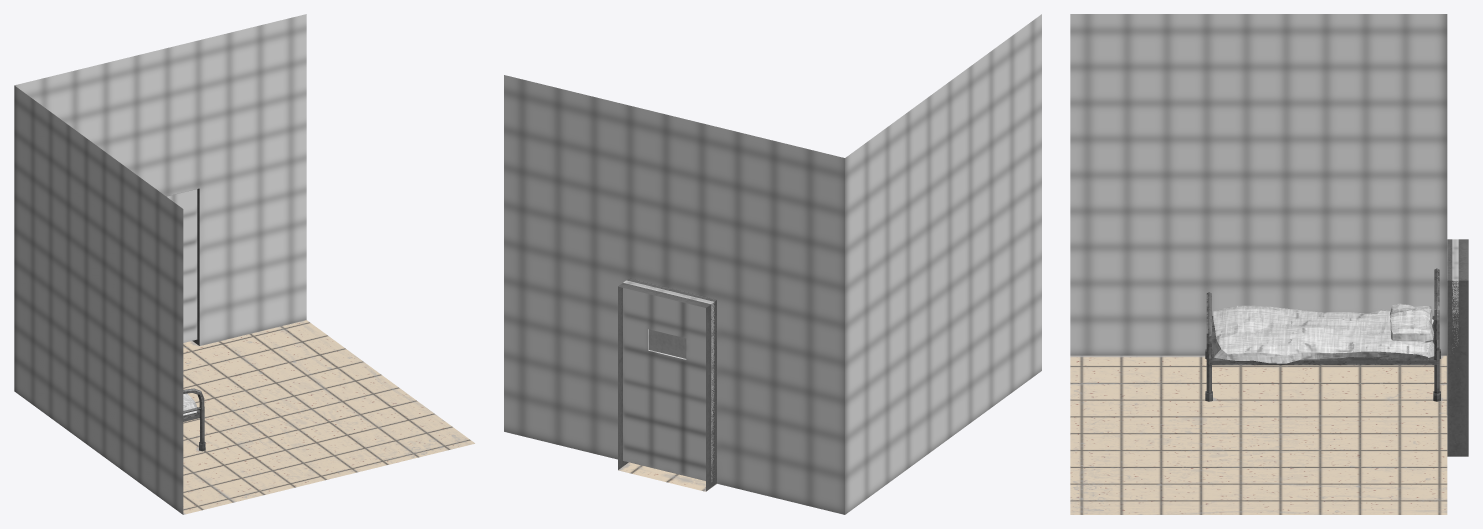
Rendered from Unityt.fbx.
The picture shows the model from 3 angles, left to right: view 1: azimuth 30°, elevation 25°; view 2: azimuth 150°, elevation 25°; view 3: azimuth 270°, elevation 25°; orthographic projection. The views are drawn at different scales.
Visible parts, largest first — view 1: Room, Door, Bed; view 2: Room, Door; view 3: Room, Bed, Door.
Part boxes in pixels (left/top/right/bottom): Room: left=14, top=14, right=474, bottom=514; Door: left=167, top=189, right=197, bottom=342; Bed: left=183, top=388, right=205, bottom=451; Room: left=504, top=14, right=1041, bottom=514; Door: left=623, top=280, right=714, bottom=481; Room: left=1070, top=14, right=1468, bottom=514; Bed: left=1205, top=268, right=1440, bottom=401; Door: left=1452, top=239, right=1458, bottom=348.
Size of what is drawn, in the model's own units: 200 by 200 by 211.
